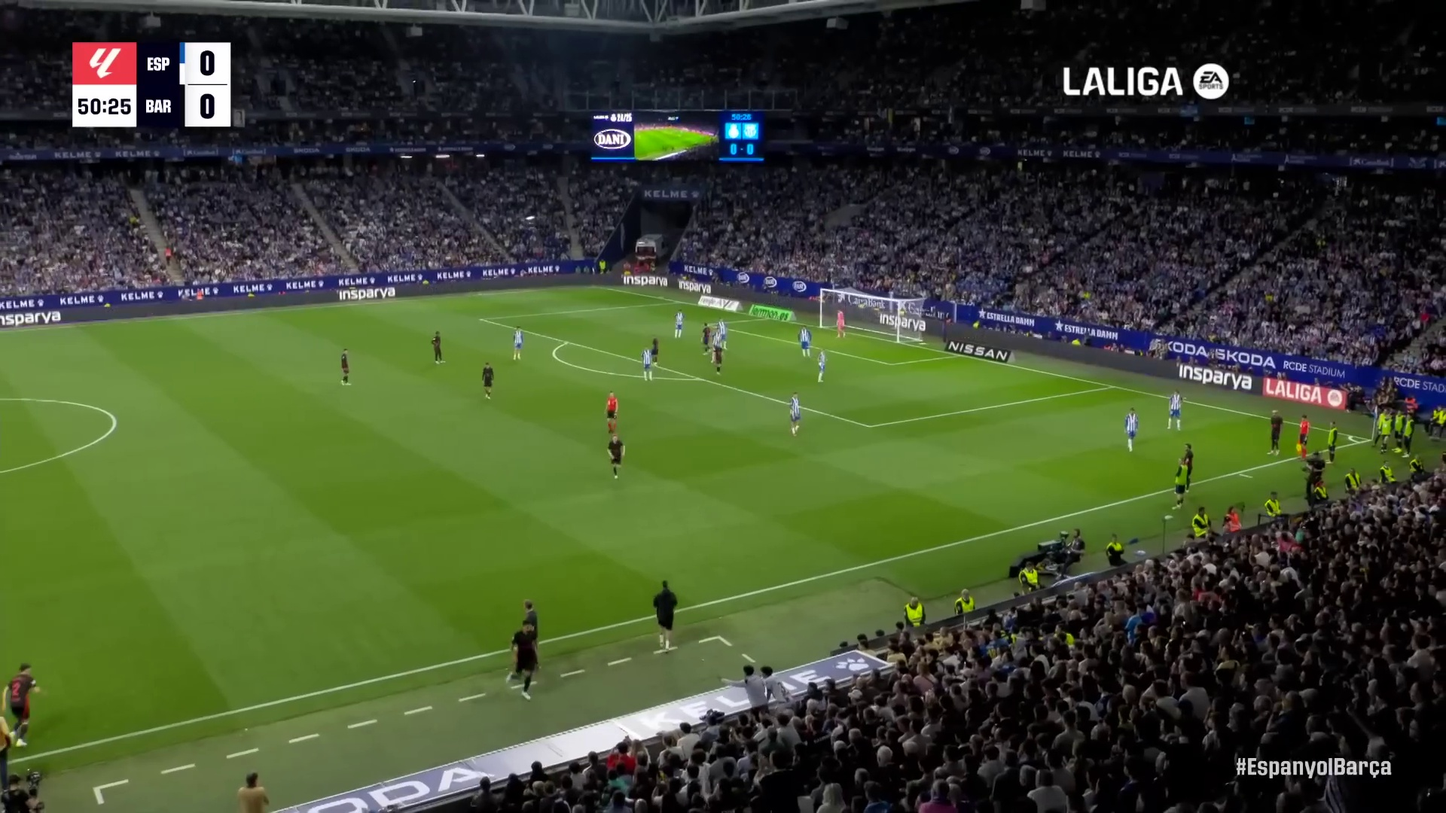player: (1, 662, 45, 750), (605, 432, 627, 480), (1164, 389, 1186, 431), (1265, 411, 1285, 455), (786, 391, 804, 436), (639, 341, 658, 382), (1123, 407, 1140, 452), (479, 361, 497, 401), (644, 336, 662, 376), (337, 347, 354, 387), (430, 330, 447, 366), (710, 340, 727, 376), (797, 325, 815, 358), (510, 326, 526, 362), (710, 328, 725, 362), (699, 322, 714, 355), (833, 308, 848, 340), (816, 349, 829, 383), (673, 309, 687, 339), (716, 317, 728, 351)
referee: (605, 433, 627, 480), (1293, 414, 1312, 457), (603, 390, 621, 432)
